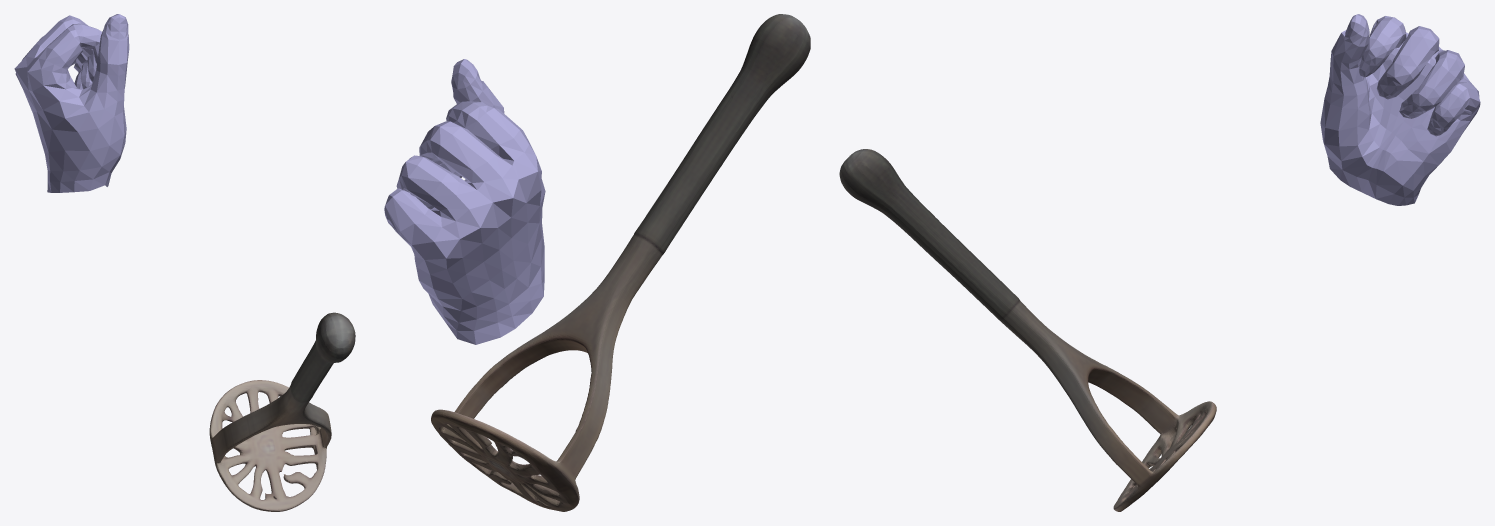
File: frame_0063_source_000063_hand_object.glb
3 views of the same model, side by side, from view 1: azimuth 30°, elevation 25°; view 2: azimuth 150°, elevation 25°; view 3: azimuth 270°, elevation 25° (orthographic). The views are drawn at different scales.
Parts seen in each view (by area): view 1: world; view 2: world; view 3: world.
Boxes of the visible parts, <box> form: world: <box>14,14,355,511</box>; world: <box>384,14,810,511</box>; world: <box>839,14,1480,511</box>.
Size of the model in its own units: 0.1301 by 0.2914 by 0.3654.
